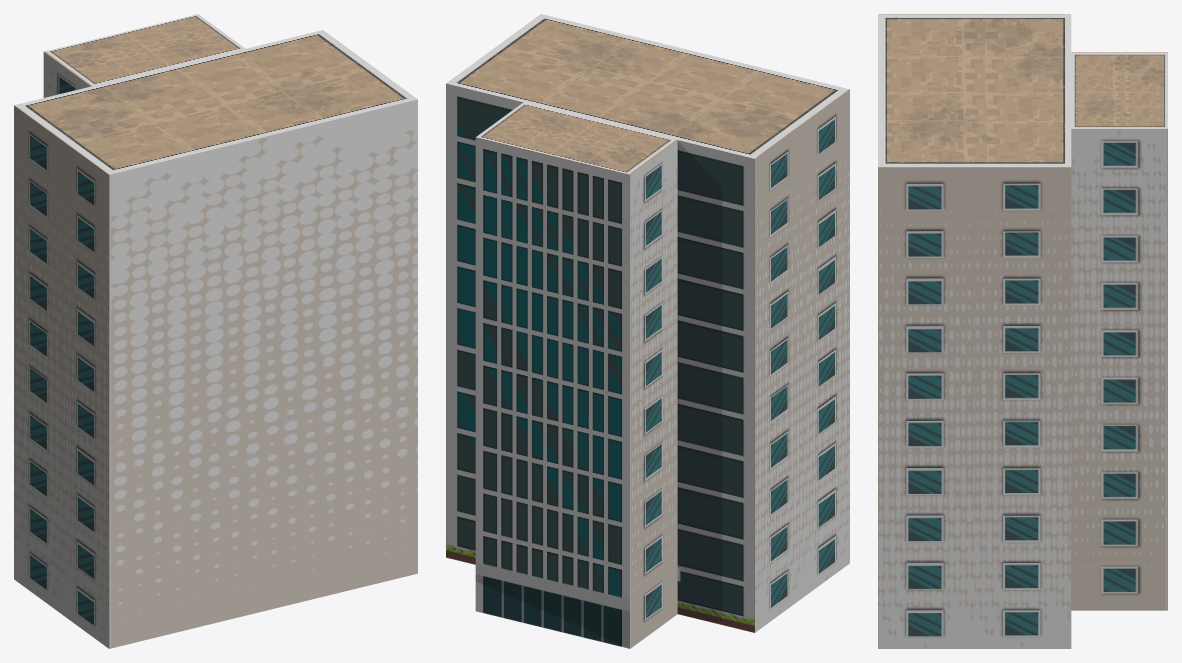
Rendered from EdificioLP3.obj.
3 views of the same model, side by side, from view 1: azimuth 30°, elevation 25°; view 2: azimuth 150°, elevation 25°; view 3: azimuth 270°, elevation 25° (orthographic).
Visible parts, largest first — view 1: Box001; view 2: Box001; view 3: Box001.
Boxes of the visible parts, x1=… form: Box001: x1=14, y1=14, x2=417, y2=648; Box001: x1=446, y1=14, x2=849, y2=648; Box001: x1=878, y1=14, x2=1167, y2=648.
Size of the model in its own units: 0.75 by 1.1 by 0.6.
Materials: 1 (1 with a texture image).
